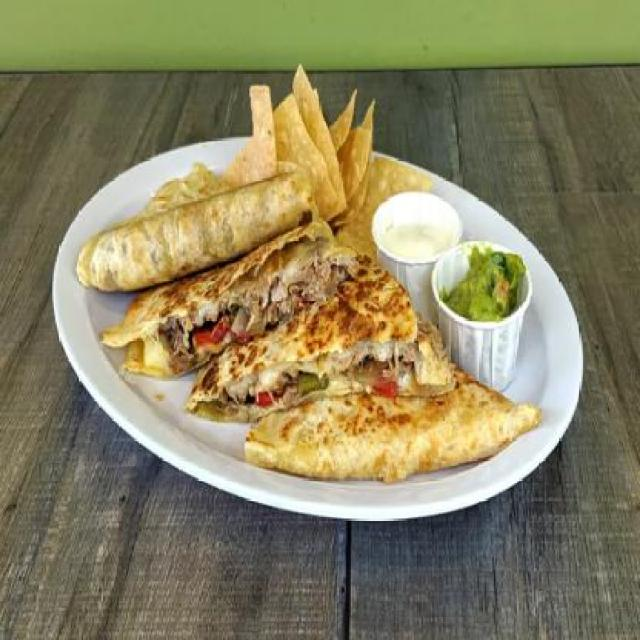chicken quesadilla: (74, 167, 546, 516)
guacamole: (430, 228, 536, 367)
nachos: (215, 70, 439, 242)
